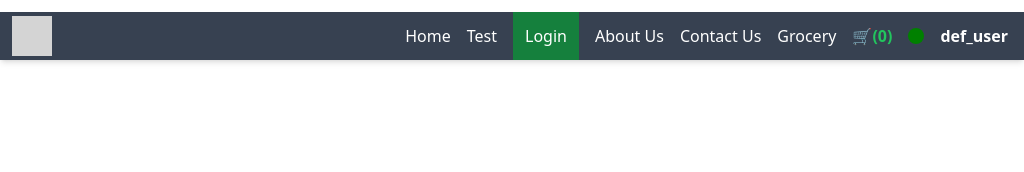
Scenario: Should render header component with click event Login  button
Click the button "Login": point(546, 36) [513,12,579,60]
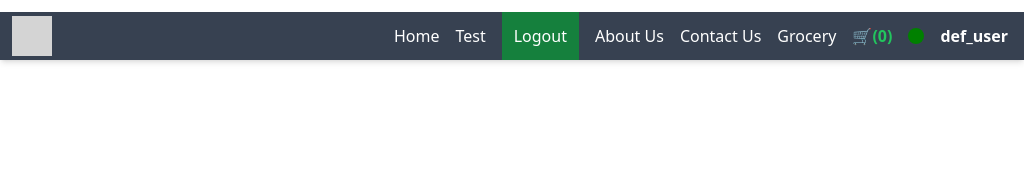
Now the button "Logout" is shown, box [502,12,579,60]
